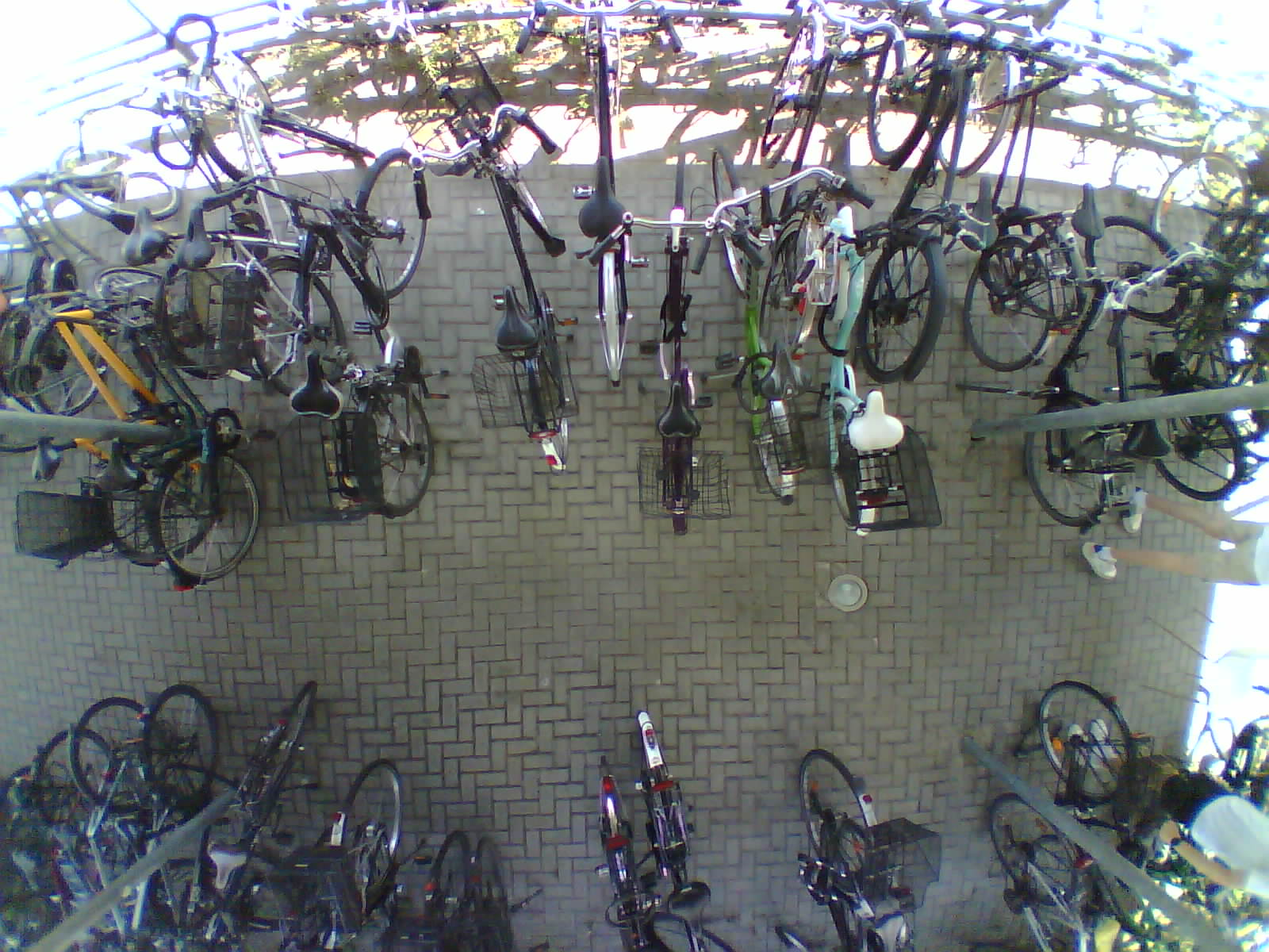bicylce: (431, 122, 592, 473), (316, 152, 451, 517), (936, 1, 1063, 374), (1085, 219, 1250, 504), (617, 136, 731, 538), (19, 132, 177, 416), (1004, 205, 1140, 531), (127, 271, 259, 592), (234, 99, 374, 393), (81, 267, 210, 564), (147, 70, 269, 375), (863, 0, 960, 381), (710, 152, 804, 505), (808, 177, 893, 533), (761, 14, 849, 357), (1040, 677, 1148, 952), (211, 680, 318, 949), (572, 0, 641, 381), (71, 699, 156, 942), (138, 688, 211, 947)
saddle: (573, 151, 642, 255), (487, 282, 552, 355), (290, 343, 344, 428), (846, 385, 909, 457), (90, 435, 158, 497), (665, 877, 724, 946), (171, 201, 223, 273), (758, 335, 811, 405), (1124, 405, 1180, 465), (964, 172, 1000, 254), (656, 379, 705, 439), (122, 204, 168, 266), (202, 838, 251, 889), (1076, 180, 1108, 246), (25, 436, 65, 488), (13, 847, 39, 892), (877, 912, 905, 952), (1093, 919, 1123, 952), (56, 822, 72, 856)
